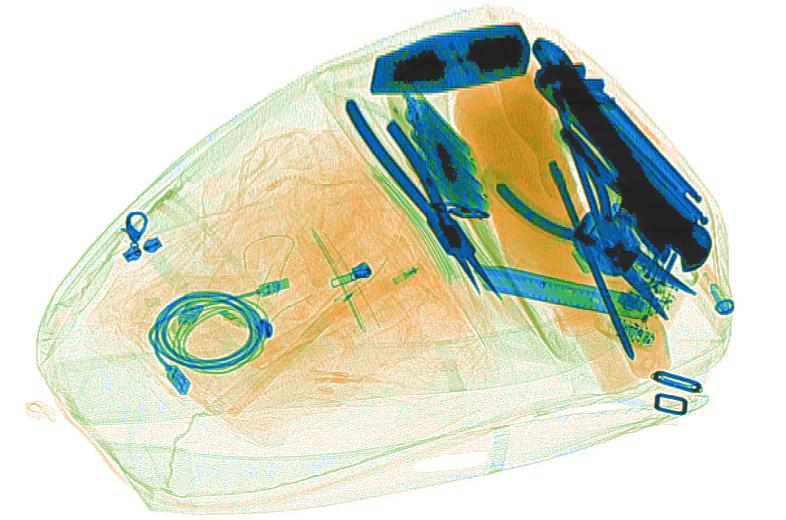battery: (383, 74, 493, 221)
knife: (471, 262, 683, 332)
